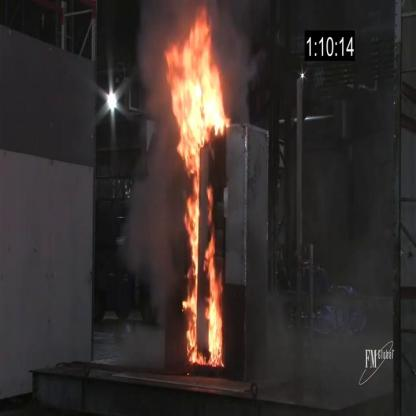fire: (162, 5, 234, 386)
